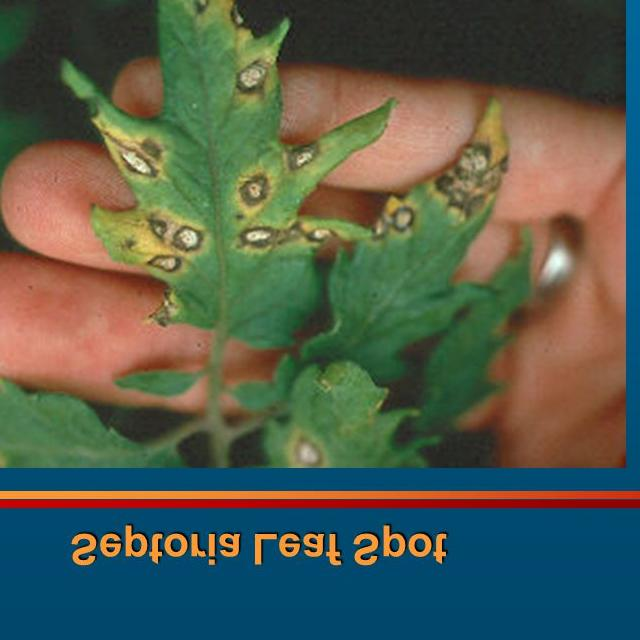Tomato Septoria leaf spot: (54, 0, 370, 338), (320, 95, 522, 389), (0, 345, 216, 464)
